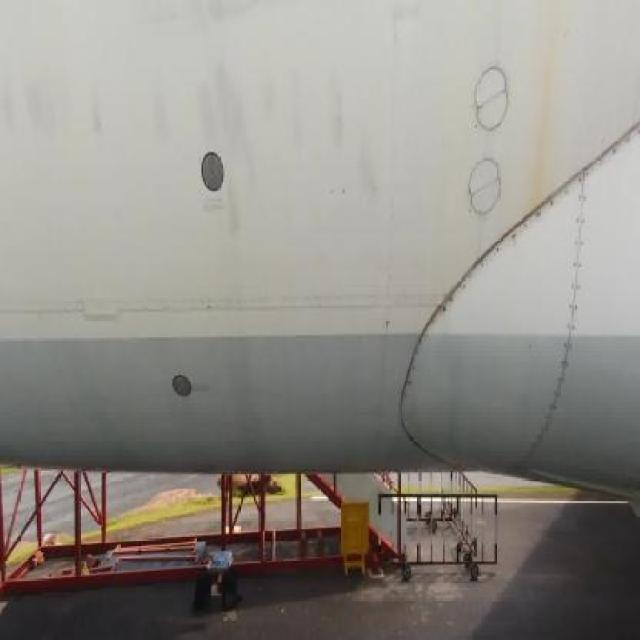Missing-Rivet: (428, 9, 486, 213), (589, 7, 640, 218), (198, 6, 251, 169), (313, 8, 352, 222), (492, 26, 588, 74), (352, 24, 430, 61), (243, 14, 312, 40)
